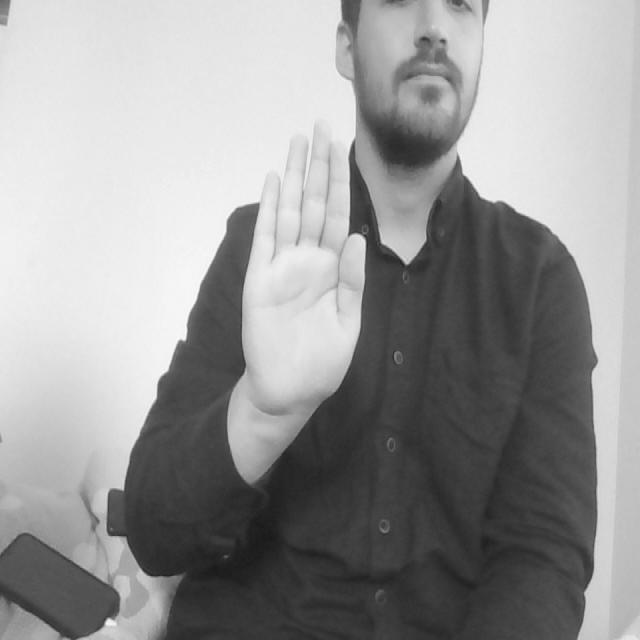Dur: (220, 105, 397, 440)
